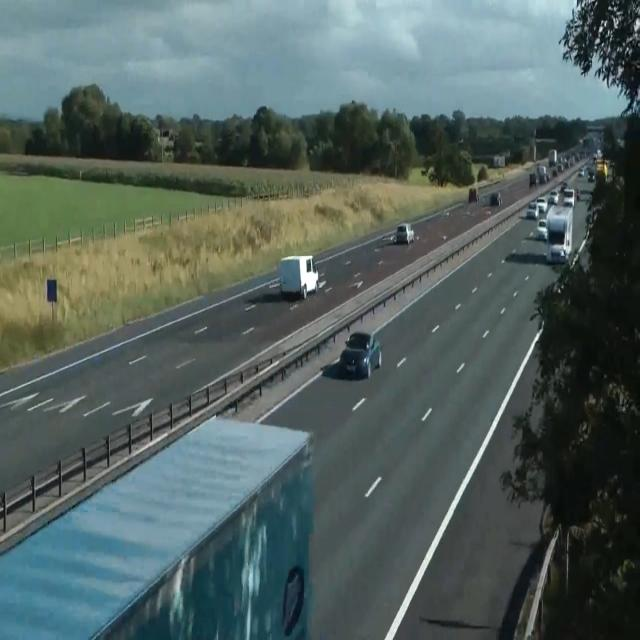bus: (548, 190, 558, 204), (560, 181, 568, 191)
jeep: (339, 331, 382, 378), (396, 222, 414, 245), (536, 218, 547, 240), (526, 200, 538, 220), (563, 188, 575, 207), (535, 195, 547, 212)
minibus: (279, 254, 319, 300), (545, 204, 573, 263), (480, 190, 502, 206), (548, 148, 557, 166), (468, 186, 478, 202), (493, 155, 505, 167)
